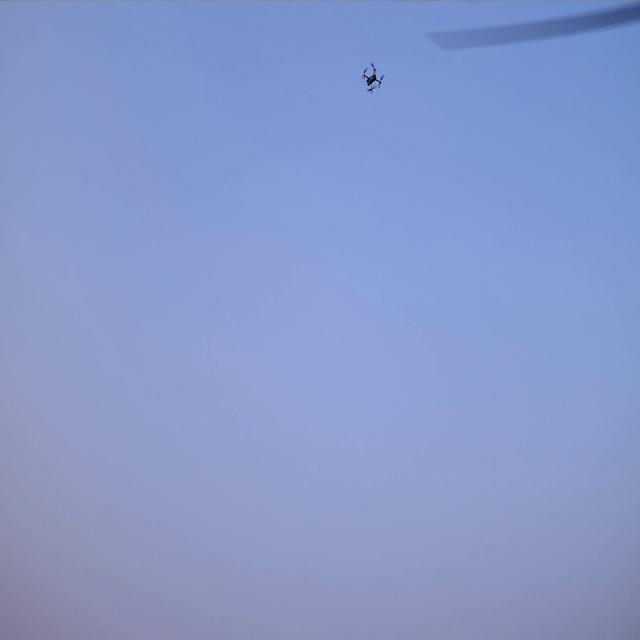UAV: (363, 64, 382, 93)
